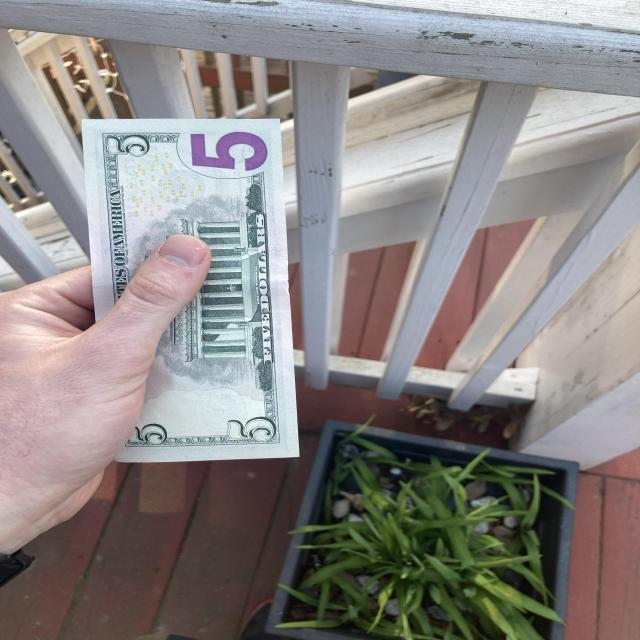five: (83, 118, 298, 463)
